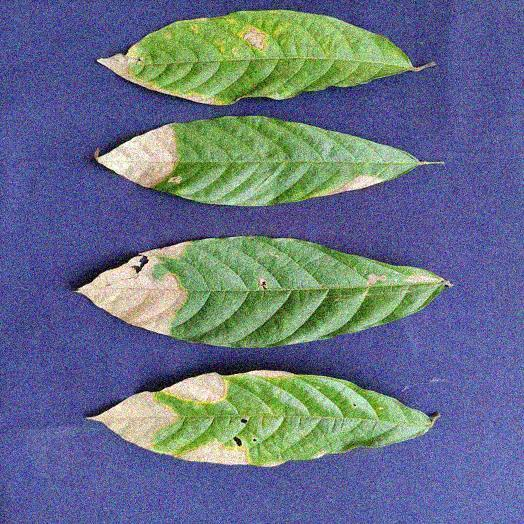Potassium: (78, 236, 448, 347), (93, 370, 435, 465), (99, 10, 428, 104), (98, 116, 435, 206)
